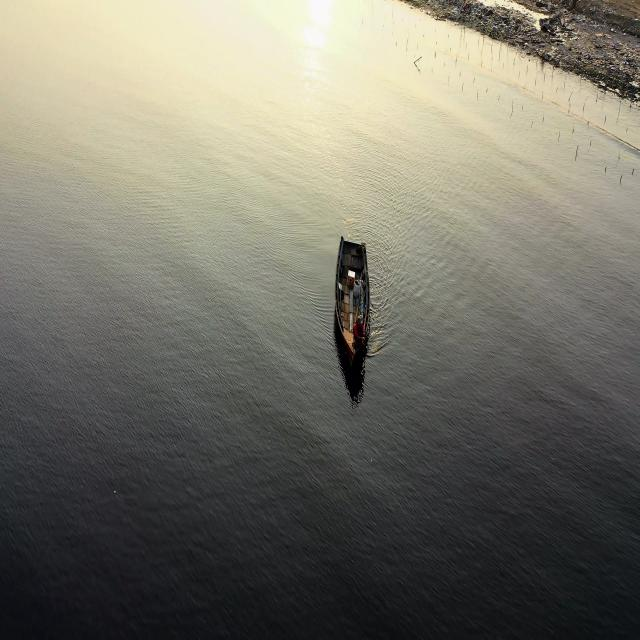ship: (330, 235, 375, 395)
